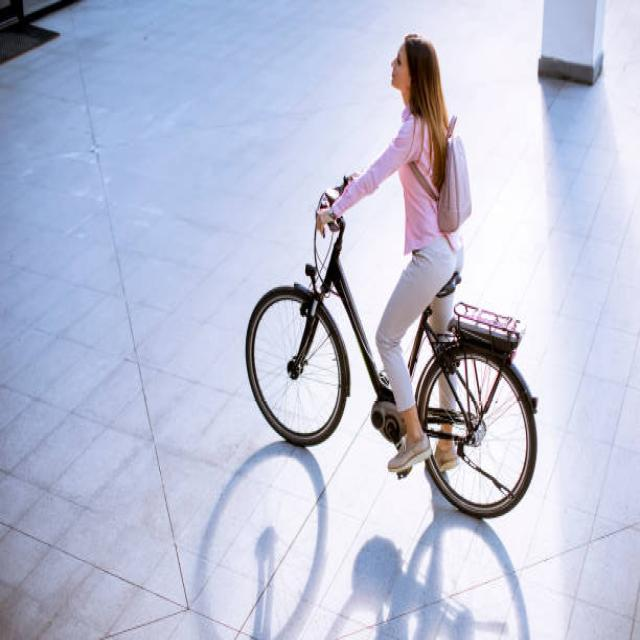bicycle: (246, 34, 536, 518)
